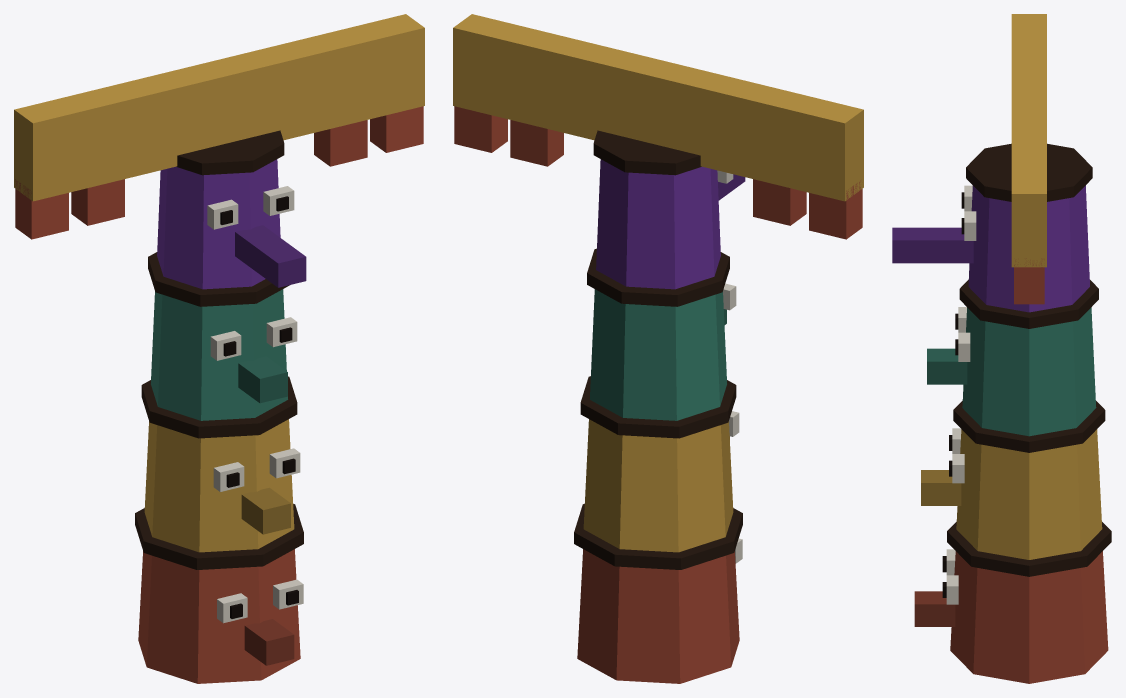
Rendered from totem.glb.
3 renders of one model, left to right at view 1: azimuth 30°, elevation 25°; view 2: azimuth 150°, elevation 25°; view 3: azimuth 270°, elevation 25°, orthographic. The views are drawn at different scales.
Visible parts, largest first — view 1: totem; view 2: totem; view 3: totem.
Part boxes in pixels (bbox=[...]): totem: bbox=[14, 14, 424, 683]; totem: bbox=[453, 14, 863, 683]; totem: bbox=[892, 14, 1111, 683].
Size of the model in its own units: 4.2 by 5.95 by 2.16.
